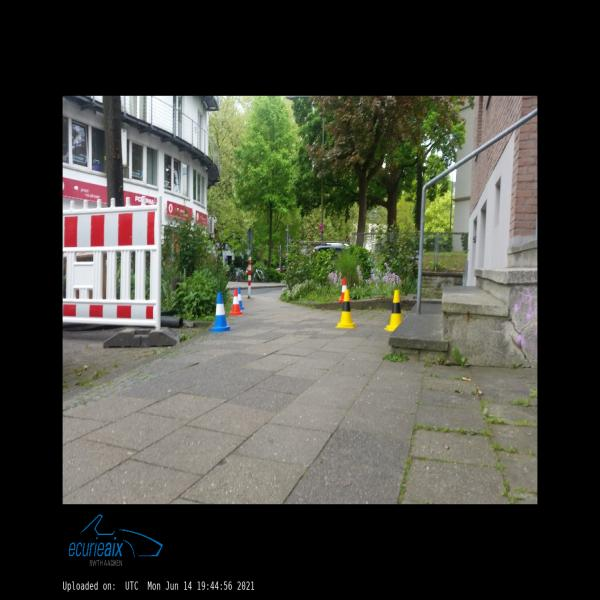blue_cone: (210, 293, 232, 332), (238, 288, 244, 309)
orange_cone: (230, 288, 243, 314), (338, 278, 351, 301)
yellow_cone: (384, 290, 403, 331), (336, 290, 356, 328)
